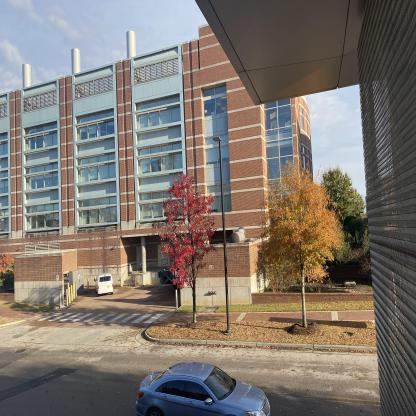EB-1: (2, 26, 328, 300)
